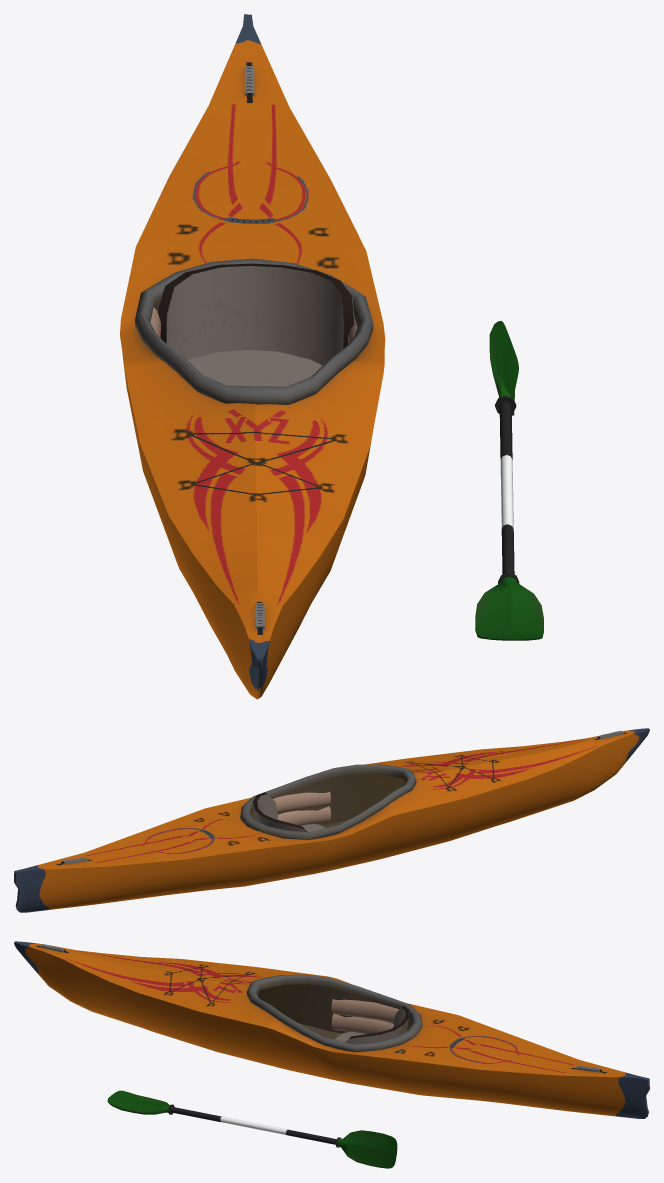
3 views of the same model, one above another, from view 1: azimuth 30°, elevation 25°; view 2: azimuth 150°, elevation 25°; view 3: azimuth 270°, elevation 25° (orthographic). The views are drawn at different scales.
Parts seen in each view (by area): view 1: four_low3; view 2: four_low3; view 3: four_low3.
Boxes of the visible parts, x1,y1,x2,y2 form: four_low3: (120, 14, 543, 699); four_low3: (14, 728, 649, 912); four_low3: (14, 941, 649, 1168).
Bounding box in the file's own units: 257 × 72.57 × 443.
Materials: 1 (1 with a texture image).
